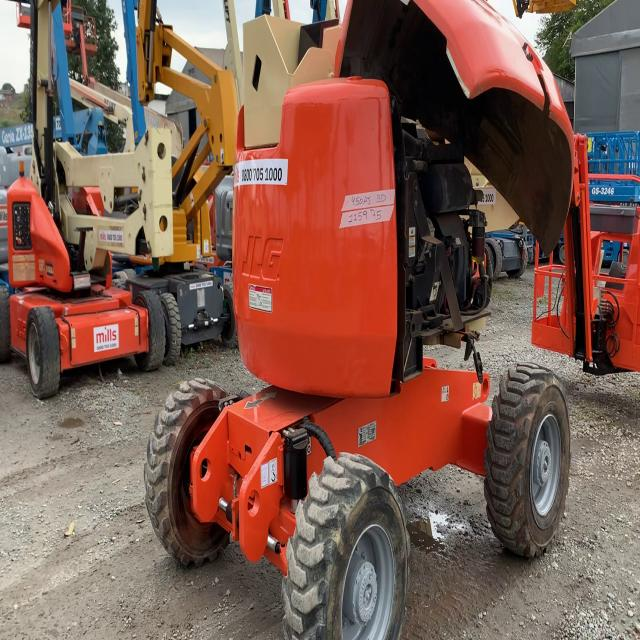Adesivos: (93, 323, 120, 353)
